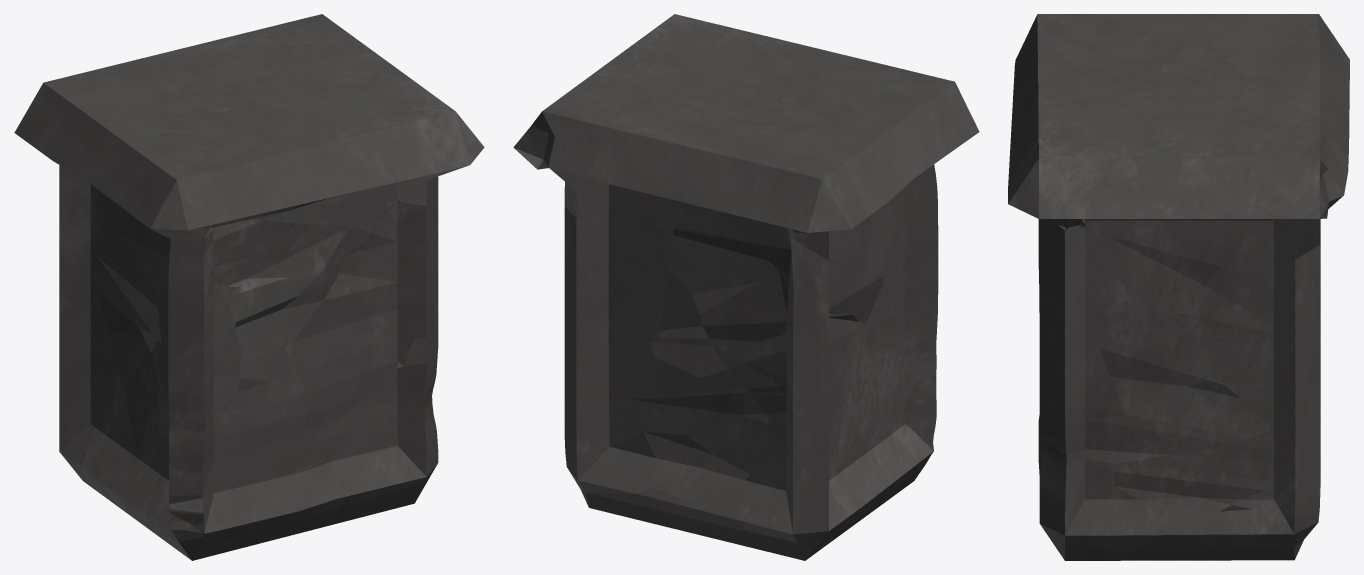
File: Default Mask Pillar.fbx
The picture shows the model from 3 angles, left to right: view 1: azimuth 30°, elevation 25°; view 2: azimuth 150°, elevation 25°; view 3: azimuth 270°, elevation 25°; orthographic projection. The views are drawn at different scales.
Parts seen in each view (by area): view 1: Cube.1648; view 2: Cube.1648; view 3: Cube.1648.
Boxes of the visible parts, left/top/right/bottom form: Cube.1648: left=14, top=14, right=484, bottom=560; Cube.1648: left=513, top=14, right=979, bottom=560; Cube.1648: left=1008, top=14, right=1349, bottom=560.
Size of the model in its own units: 380 by 427 by 315.
